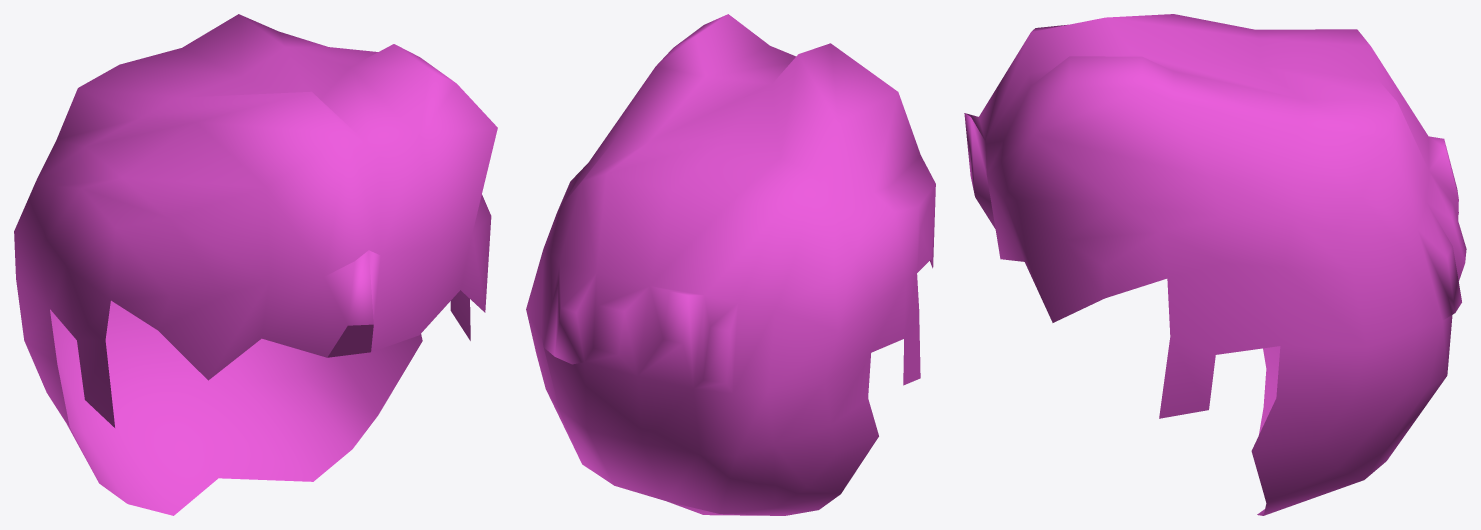
The model's file is hair.fbx.
3 renders of one model, left to right at view 1: azimuth 30°, elevation 25°; view 2: azimuth 150°, elevation 25°; view 3: azimuth 270°, elevation 25°, orthographic. The views are drawn at different scales.
Visible parts, largest first — view 1: hair00; view 2: hair00; view 3: hair00.
Boxes of the visible parts, x1,y1,x2,y2 form: hair00: (14, 14, 497, 515); hair00: (526, 14, 935, 515); hair00: (964, 14, 1466, 515).
Bounding box in the file's own units: 0.4001 × 0.4759 × 0.4617.
